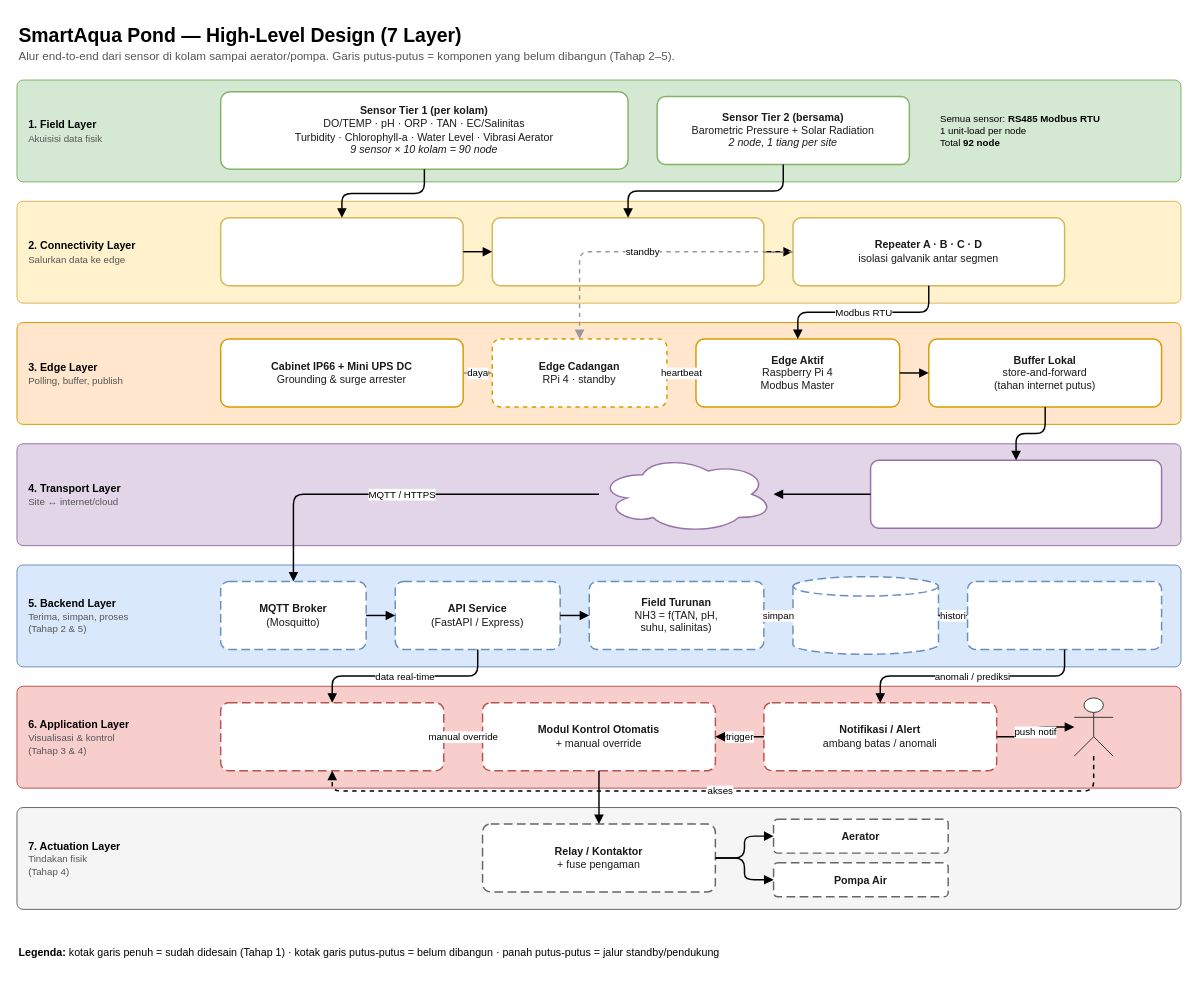
Image size: 1198x984. Some labels were removed from this diagram. Each missing label, with the centre of its shape:
Dashboard Web / Mobile real-time · histori · laporan: (332,736)
Industrial 4G Router dual SIM · fallback WiFi/Ethernet: (1015,493)
Internet: (686,493)
Kabel STP + Junction Box 1 titik terminasi per kolam: (341,251)
Modul AI/ML prediksi tren & deteksi anomali: (1064,615)
Petambak: (1093,726)
RS485 Bus Tersegmentasi 4 segmen (A/B/C/D) ≤ 32 unit-load per segmen: (627,251)
Time-series DB InfluxDB / PostgreSQL: (865,615)
